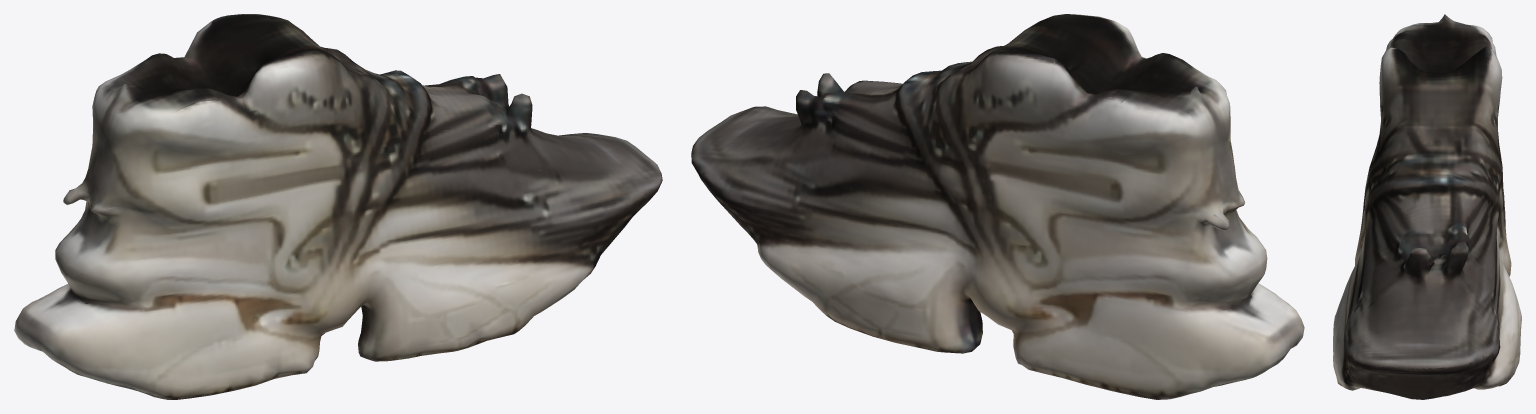
The model's file is zapatox4.glb.
3 renders of one model, left to right at view 1: azimuth 30°, elevation 25°; view 2: azimuth 150°, elevation 25°; view 3: azimuth 270°, elevation 25°, orthographic. The views are drawn at different scales.
Visible parts, largest first — view 1: mesh; view 2: mesh; view 3: mesh.
Part boxes in pixels (box(x1,y1,x2,y2)): mesh: box(14, 14, 662, 399); mesh: box(691, 14, 1304, 399); mesh: box(1333, 14, 1521, 399).
Bounding box in the file's own units: 1.89 × 0.9414 × 0.6212.
Materials: 1 (1 with a texture image).
